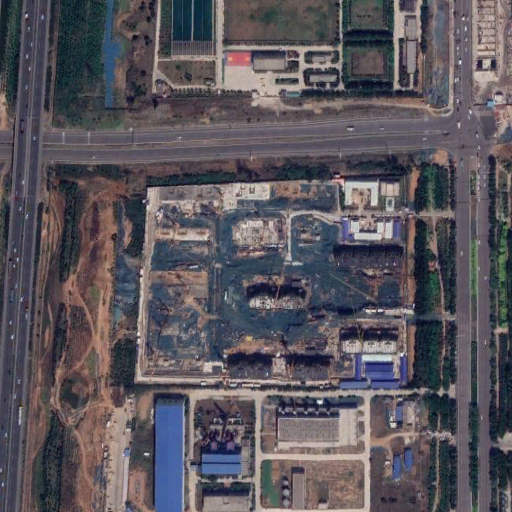cw: (140, 184, 406, 381)
